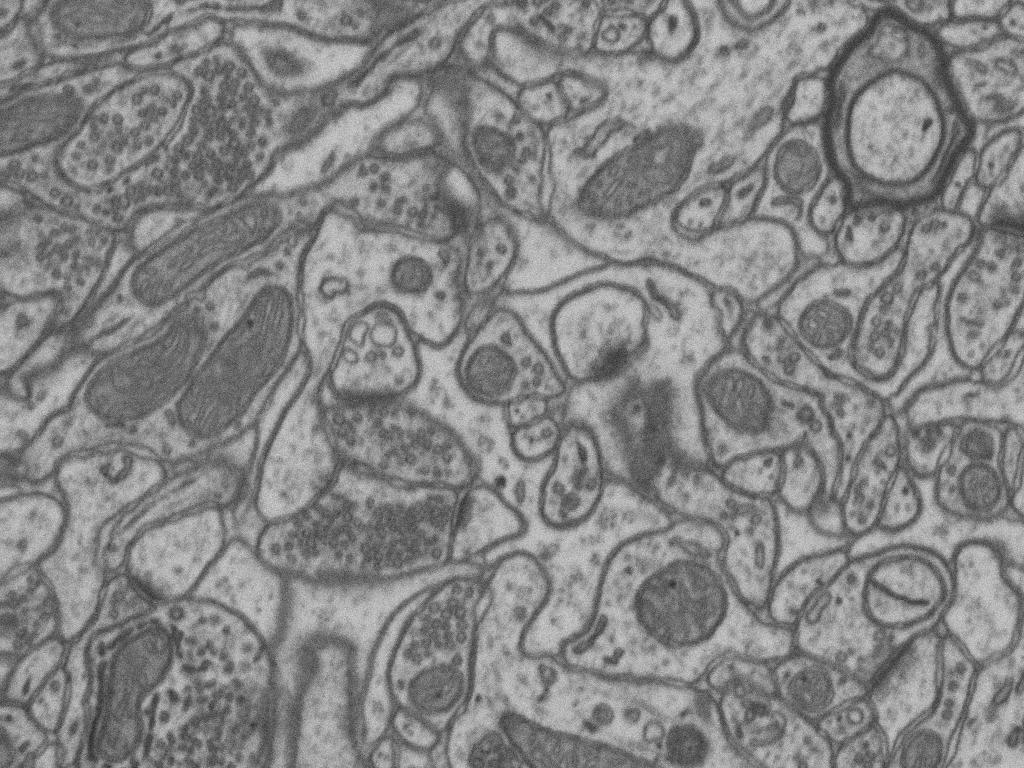mitochondria: (168, 276, 302, 443), (123, 192, 285, 315), (79, 308, 211, 436), (82, 617, 185, 768), (572, 118, 708, 229), (624, 546, 741, 656), (495, 702, 674, 768), (0, 79, 99, 166), (698, 358, 781, 443), (39, 0, 166, 50), (766, 135, 832, 210), (792, 290, 862, 360), (401, 658, 475, 720), (950, 450, 1011, 525), (458, 333, 522, 403), (781, 661, 842, 723), (465, 116, 529, 175), (462, 726, 540, 768), (889, 720, 955, 768), (381, 249, 443, 300)
